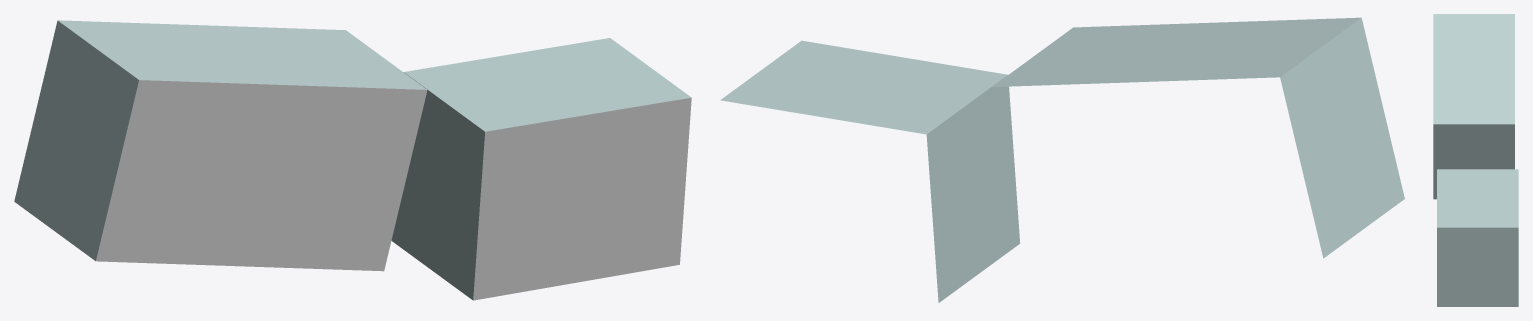
3 renders of one model, left to right at view 1: azimuth 30°, elevation 25°; view 2: azimuth 150°, elevation 25°; view 3: azimuth 270°, elevation 25°, orthographic. The views are drawn at different scales.
Visible parts, largest first — view 1: 0_2_3_3_3_0_3_1_0; view 2: 0_2_3_3_3_0_3_1_0; view 3: 0_2_3_3_3_0_3_1_0.
Part boxes in pixels (x1=…): 0_2_3_3_3_0_3_1_0: x1=14, y1=20, x2=691, y2=300; 0_2_3_3_3_0_3_1_0: x1=720, y1=17, x2=1404, y2=302; 0_2_3_3_3_0_3_1_0: x1=1433, y1=14, x2=1518, y2=306.
Bounding box in the file's own units: 12.73 × 6.49 × 3.14.
